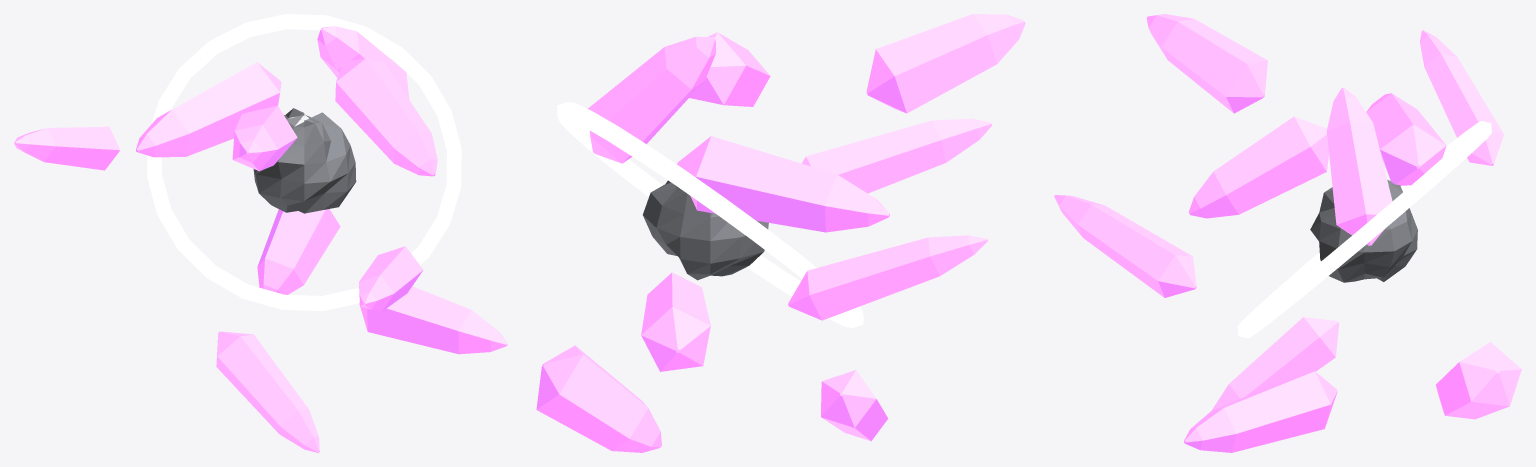
The model's file is vfx-mesh-library-dimensional-shard-cluster-58088d57__21908.glb.
3 views of the same model, side by side, from view 1: azimuth 30°, elevation 25°; view 2: azimuth 150°, elevation 25°; view 3: azimuth 270°, elevation 25° (orthographic). The views are drawn at different scales.
Visible parts, largest first — view 1: dimensional-shard-cluster; view 2: dimensional-shard-cluster; view 3: dimensional-shard-cluster.
Part boxes in pixels (<box>): dimensional-shard-cluster: <box>14,14,507,452</box>; dimensional-shard-cluster: <box>536,14,1025,452</box>; dimensional-shard-cluster: <box>1054,14,1521,452</box>.
Bounding box in the file's own units: 0.904 × 0.7917 × 0.8939.
